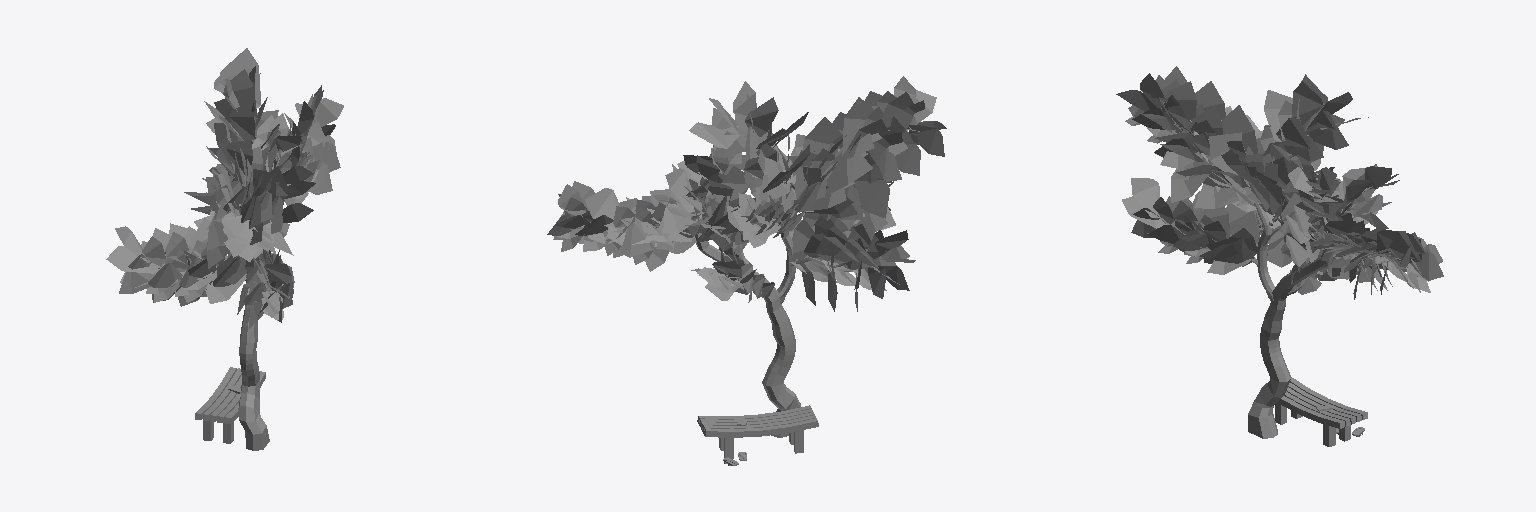
File: pohonbangku.obj
3 views of the same model, side by side, from view 1: azimuth 30°, elevation 25°; view 2: azimuth 150°, elevation 25°; view 3: azimuth 270°, elevation 25° (orthographic).
Visible parts, largest first — view 1: Loft002_Mesh.006, Box002_Mesh.444, Plane522_Mesh.423, Plane521_Mesh.422, Plane520_Mesh.421, Plane455_Mesh.361, Plane162_Mesh.124, Plane459_Mesh.365; view 2: Loft002_Mesh.006, Box002_Mesh.444, Plane096_Mesh.078, Plane346_Mesh.255, Plane090_Mesh.072, Plane115_Mesh.097, Plane202_Mesh.136, Plane525_Mesh.426, Plane058_Mesh.048, Plane527_Mesh.428, Plane209_Mesh.140, Plane071_Mesh.053 (+2 smaller); view 3: Loft002_Mesh.006, Box002_Mesh.444, Plane115_Mesh.097, Plane526_Mesh.427, Plane022_Mesh.015, Plane348_Mesh.257, Plane051_Mesh.043, Plane336_Mesh.245, Plane344_Mesh.253, Plane523_Mesh.424, Plane083_Mesh.065, Plane531_Mesh.432 (+3 smaller).
Part boxes in pixels (x1,y1,x2,y2): Loft002_Mesh.006: (238,149,283,450); Box002_Mesh.444: (195,367,265,443); Plane522_Mesh.423: (218,48,260,108); Plane521_Mesh.422: (223,69,257,119); Plane520_Mesh.421: (229,103,255,140); Plane455_Mesh.361: (106,246,157,273); Plane162_Mesh.124: (312,98,343,126); Plane459_Mesh.365: (119,272,155,293); Loft002_Mesh.006: (693,150,845,437); Box002_Mesh.444: (697,405,818,458); Plane096_Mesh.078: (853,174,889,218); Plane346_Mesh.255: (815,154,872,200); Plane090_Mesh.072: (842,97,873,155); Plane115_Mesh.097: (802,117,842,154); Plane202_Mesh.136: (585,188,622,229); Plane525_Mesh.426: (745,97,778,136); Plane058_Mesh.048: (909,125,944,156); Plane527_Mesh.428: (689,122,739,148); Plane209_Mesh.140: (620,222,653,257); Plane071_Mesh.053: (895,142,920,175); Loft002_Mesh.006: (1160,135,1410,438); Box002_Mesh.444: (1275,377,1367,446); Plane115_Mesh.097: (1221,105,1257,153); Plane526_Mesh.427: (1291,81,1323,124); Plane022_Mesh.015: (1131,178,1160,217); Plane348_Mesh.257: (1209,132,1245,190); Plane051_Mesh.043: (1226,204,1259,246); Plane336_Mesh.245: (1171,163,1214,202); Plane344_Mesh.253: (1194,184,1244,208); Plane523_Mesh.424: (1264,90,1292,141); Plane083_Mesh.065: (1165,81,1196,132); Plane531_Mesh.432: (1276,118,1310,148).
Size of the model in its own units: 8.3 by 9.57 by 7.9.